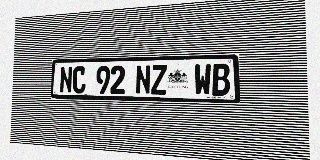2: (110, 65, 125, 94)
9: (96, 66, 110, 94)
B: (212, 63, 230, 96)
C: (72, 66, 86, 94)
N: (135, 65, 151, 95), (59, 66, 73, 93)
W: (194, 64, 211, 95)
Z: (151, 65, 167, 95)
